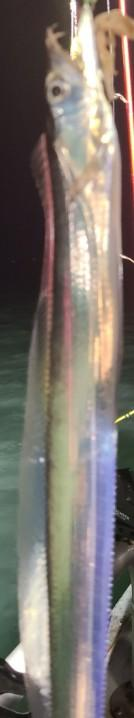fish: (18, 1, 123, 717)
